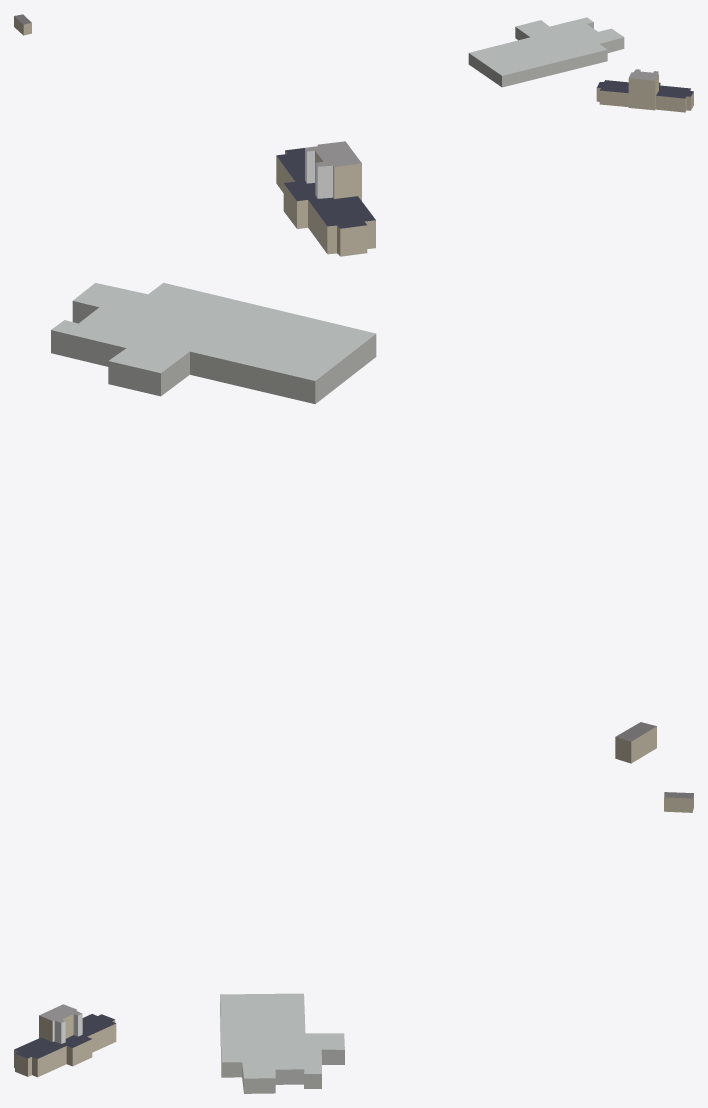
3 views of the same model, one above another, from view 1: azimuth 30°, elevation 25°; view 2: azimuth 150°, elevation 25°; view 3: azimuth 270°, elevation 25° (orthographic). The views are drawn at different scales.
Visible parts, largest first — view 1: tuile; view 2: tuile; view 3: tuile.
Boxes of the visible parts, left/top/right/bottom form: tuile: left=14, top=14, right=693, bottom=112; tuile: left=51, top=141, right=656, bottom=763; tuile: left=14, top=792, right=693, bottom=1093.
Bounding box in the file's own units: 182 × 14.46 × 184.
